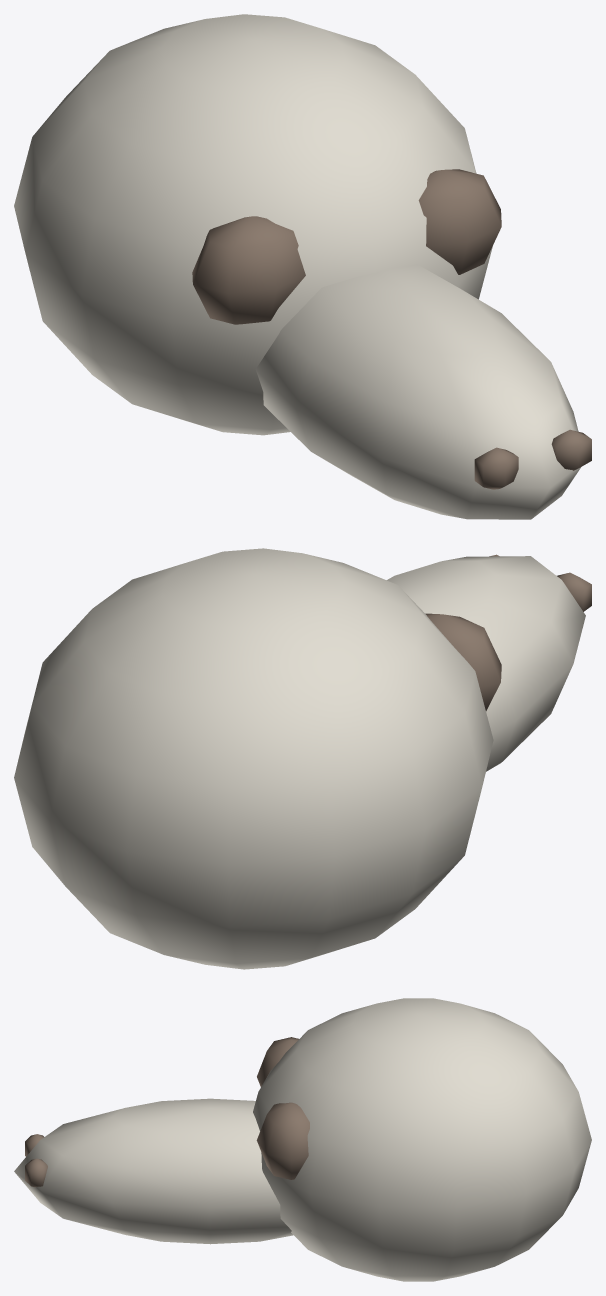
The model's file is Skull.gltf.
The picture shows the model from 3 angles, top to bottom: view 1: azimuth 30°, elevation 25°; view 2: azimuth 150°, elevation 25°; view 3: azimuth 270°, elevation 25°; orthographic projection. The views are drawn at different scales.
Parts seen in each view (by area): view 1: Skull; view 2: Skull; view 3: Skull.
Part boxes in pixels (x1,y1,x2,y2): Skull: (14,14,591,519); Skull: (14,548,591,969); Skull: (14,998,591,1281).
Size of the model in its own units: 0.273 by 0.24 by 0.5.
